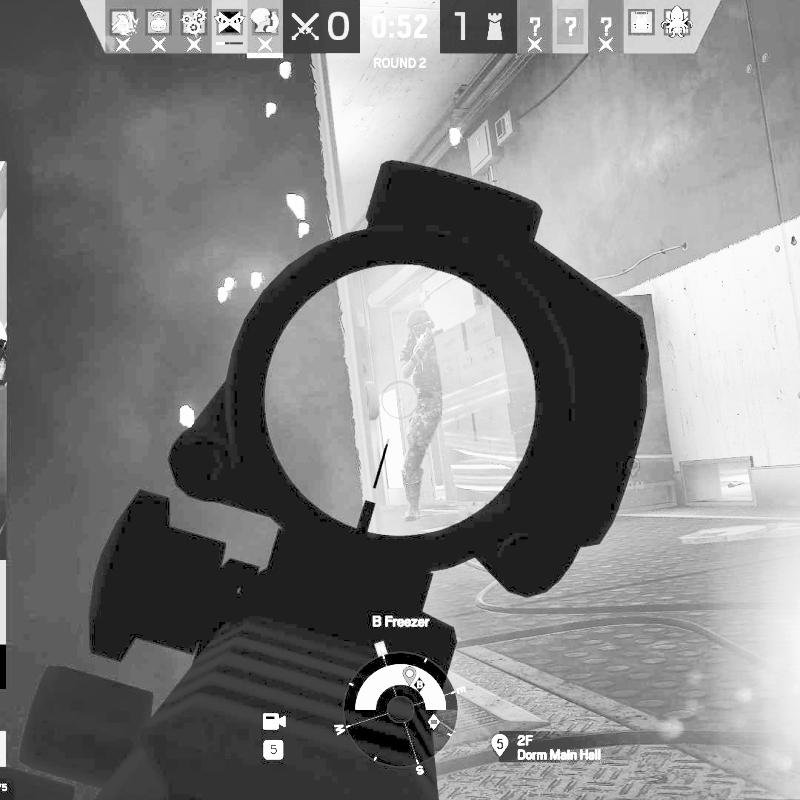Character: (399, 306, 447, 522)
Head: (405, 306, 437, 342)
